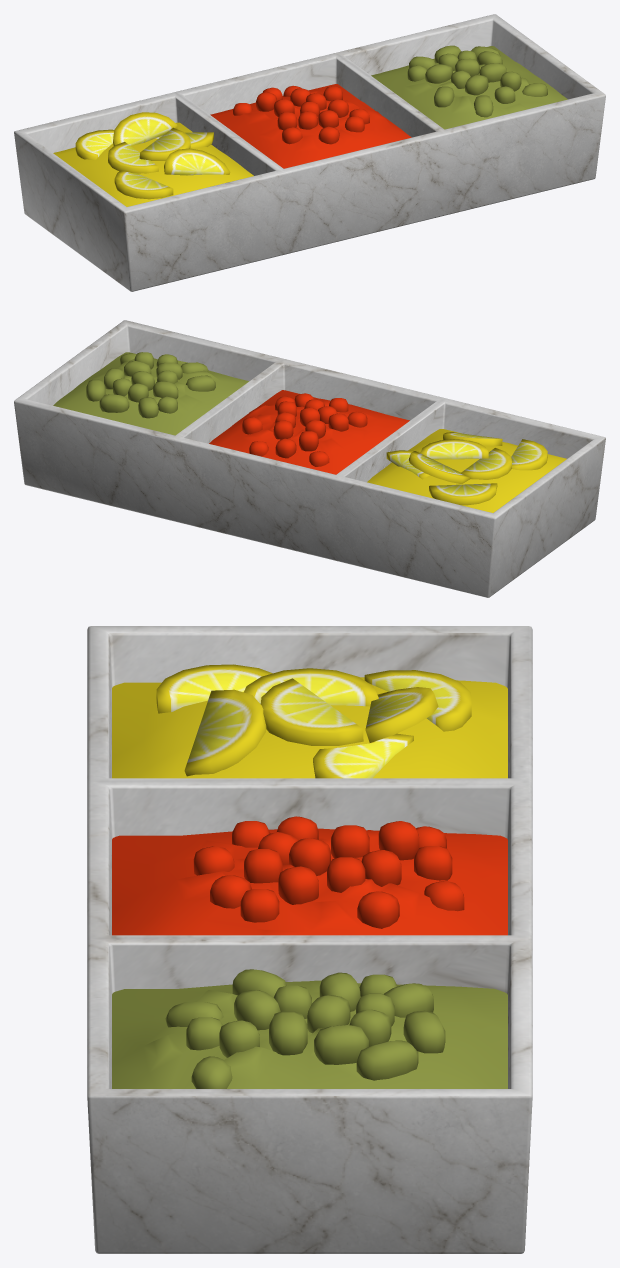
Rendered from garnish-plate.fbx.
The picture shows the model from 3 angles, top to bottom: view 1: azimuth 30°, elevation 25°; view 2: azimuth 150°, elevation 25°; view 3: azimuth 270°, elevation 25°; orthographic projection. The views are drawn at different scales.
Parts seen in each view (by area): view 1: garnish_plate, fill_lemons, plate_fill_cherry, fill_olives, plate_fill_olive, fill_cherries, plate_fill_lemon; view 2: garnish_plate, fill_lemons, plate_fill_cherry, fill_olives, plate_fill_olive, fill_cherries, plate_fill_lemon; view 3: garnish_plate, plate_fill_cherry, fill_lemons, plate_fill_olive, fill_olives, plate_fill_lemon, fill_cherries.
Part boxes in pixels (x1,y1,x2,y2): garnish_plate: [14, 14, 605, 291]; fill_lemons: [75, 112, 230, 199]; plate_fill_cherry: [210, 84, 411, 168]; fill_olives: [407, 45, 547, 117]; plate_fill_olive: [371, 46, 567, 129]; fill_cherries: [233, 85, 369, 144]; plate_fill_lemon: [53, 122, 253, 206]; garnish_plate: [14, 320, 605, 597]; fill_lemons: [386, 432, 547, 505]; plate_fill_cherry: [209, 390, 409, 474]; fill_olives: [86, 352, 215, 418]; plate_fill_olive: [53, 352, 248, 435]; fill_cherries: [242, 393, 367, 466]; plate_fill_lemon: [367, 429, 566, 512]; garnish_plate: [87, 626, 532, 1253]; plate_fill_cherry: [112, 828, 507, 935]; fill_lemons: [156, 664, 471, 778]; plate_fill_olive: [112, 980, 507, 1088]; fill_olives: [165, 969, 445, 1088]; plate_fill_lemon: [112, 677, 507, 778]; fill_cherries: [193, 816, 464, 928].
Bounding box in the file's own units: 0.5996 × 0.1148 × 0.2398.
